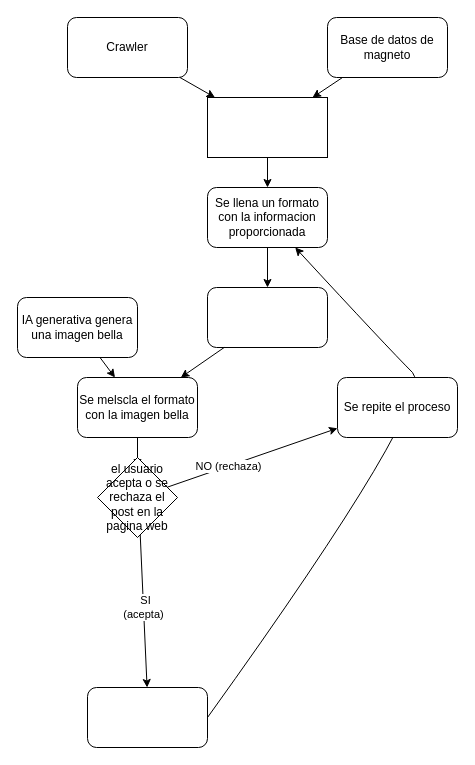
This 475x765 diagram has some shape labels left out. The shapes that lost their labels are listed below. From the top down, each one's centre as x and y in pixels, then its label:
At (267,127): "Obtenemos informacion, relacionada a los trabajos".
At (267,317): "El formato se convierte en una imagen".
At (147,717): "Se postea la imagen".
